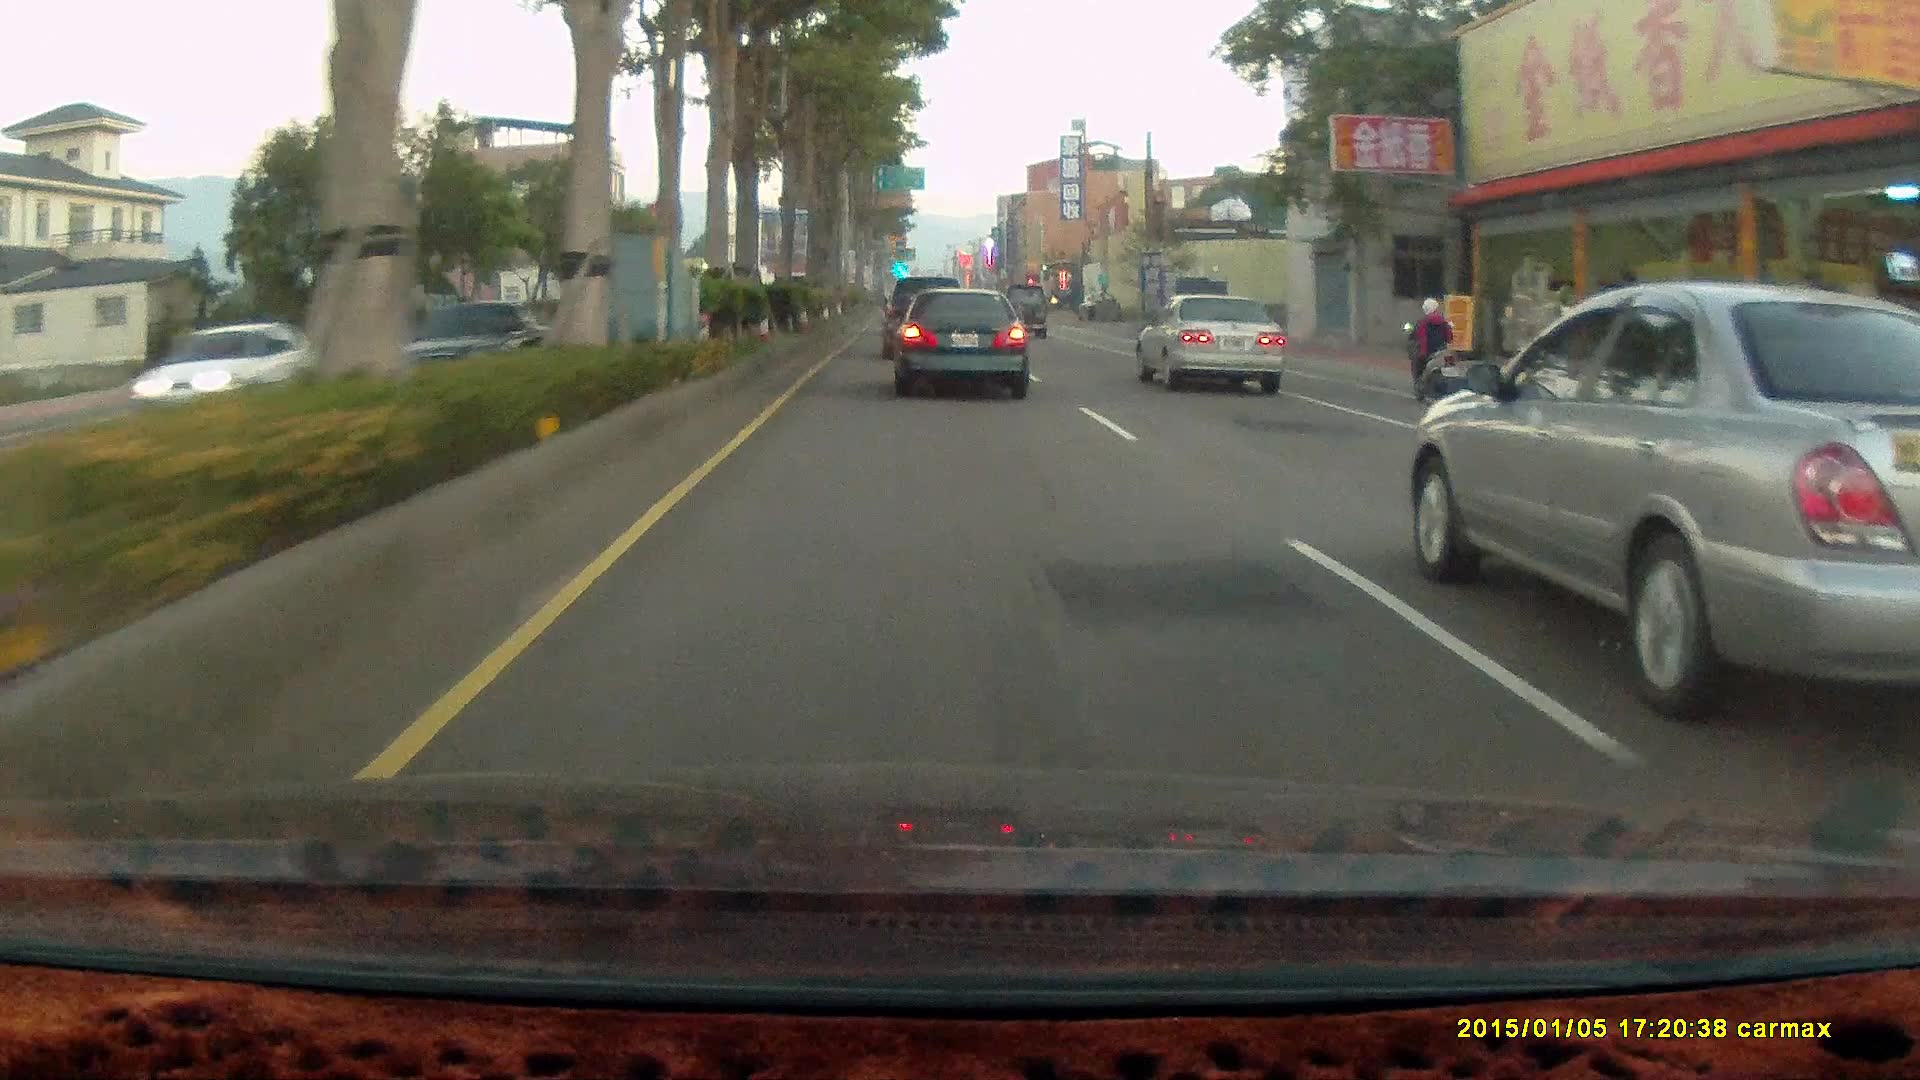rider: (1396, 286, 1471, 416), (1402, 295, 1466, 405)
vehicle: (1401, 289, 1920, 715), (120, 321, 320, 425), (130, 321, 329, 406), (890, 286, 1032, 402), (1139, 292, 1293, 397), (890, 285, 1030, 397), (1133, 294, 1284, 396), (392, 296, 563, 370), (884, 274, 973, 361), (881, 283, 963, 362), (1158, 274, 1229, 340), (1000, 282, 1047, 339)
